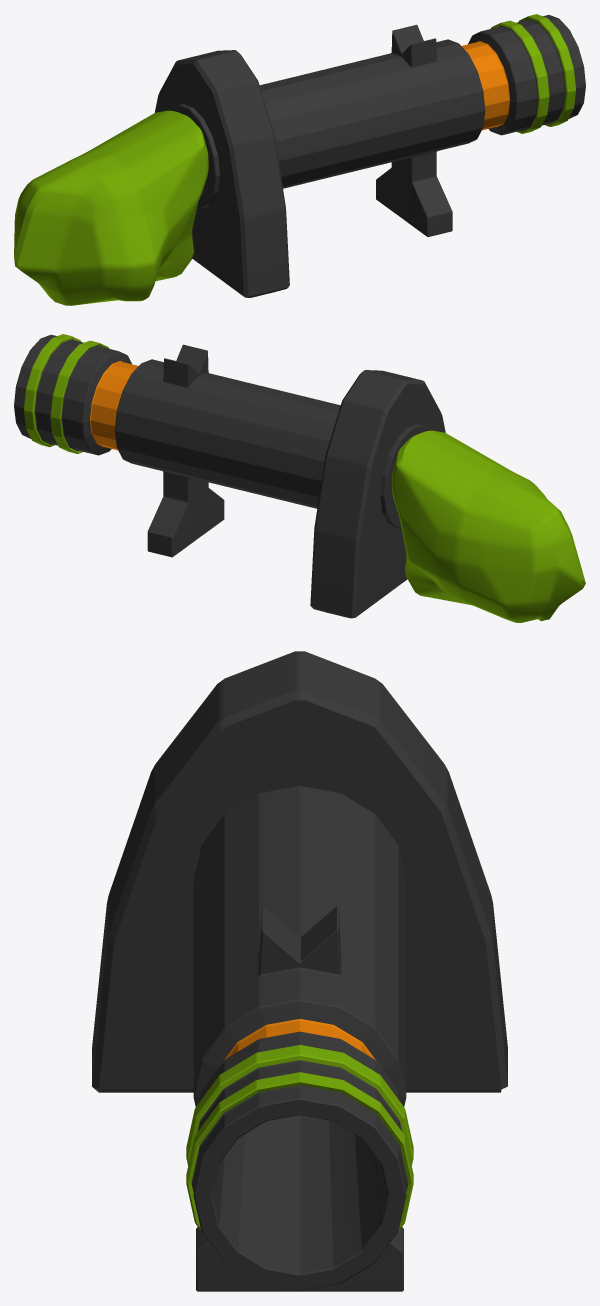
File: GameJamTennisCannon.fbx
The picture shows the model from 3 angles, top to bottom: view 1: azimuth 30°, elevation 25°; view 2: azimuth 150°, elevation 25°; view 3: azimuth 270°, elevation 25°; orthographic projection. The views are drawn at different scales.
Visible parts, largest first — view 1: pCylinder3; view 2: pCylinder3; view 3: pCylinder3.
Part boxes in pixels (box(x1,y1,x2,y2)): pCylinder3: box(14, 14, 585, 305); pCylinder3: box(14, 334, 585, 622); pCylinder3: box(92, 651, 507, 1291).
Bounding box in the file's own units: 11.77 × 4.3 × 3.9.
